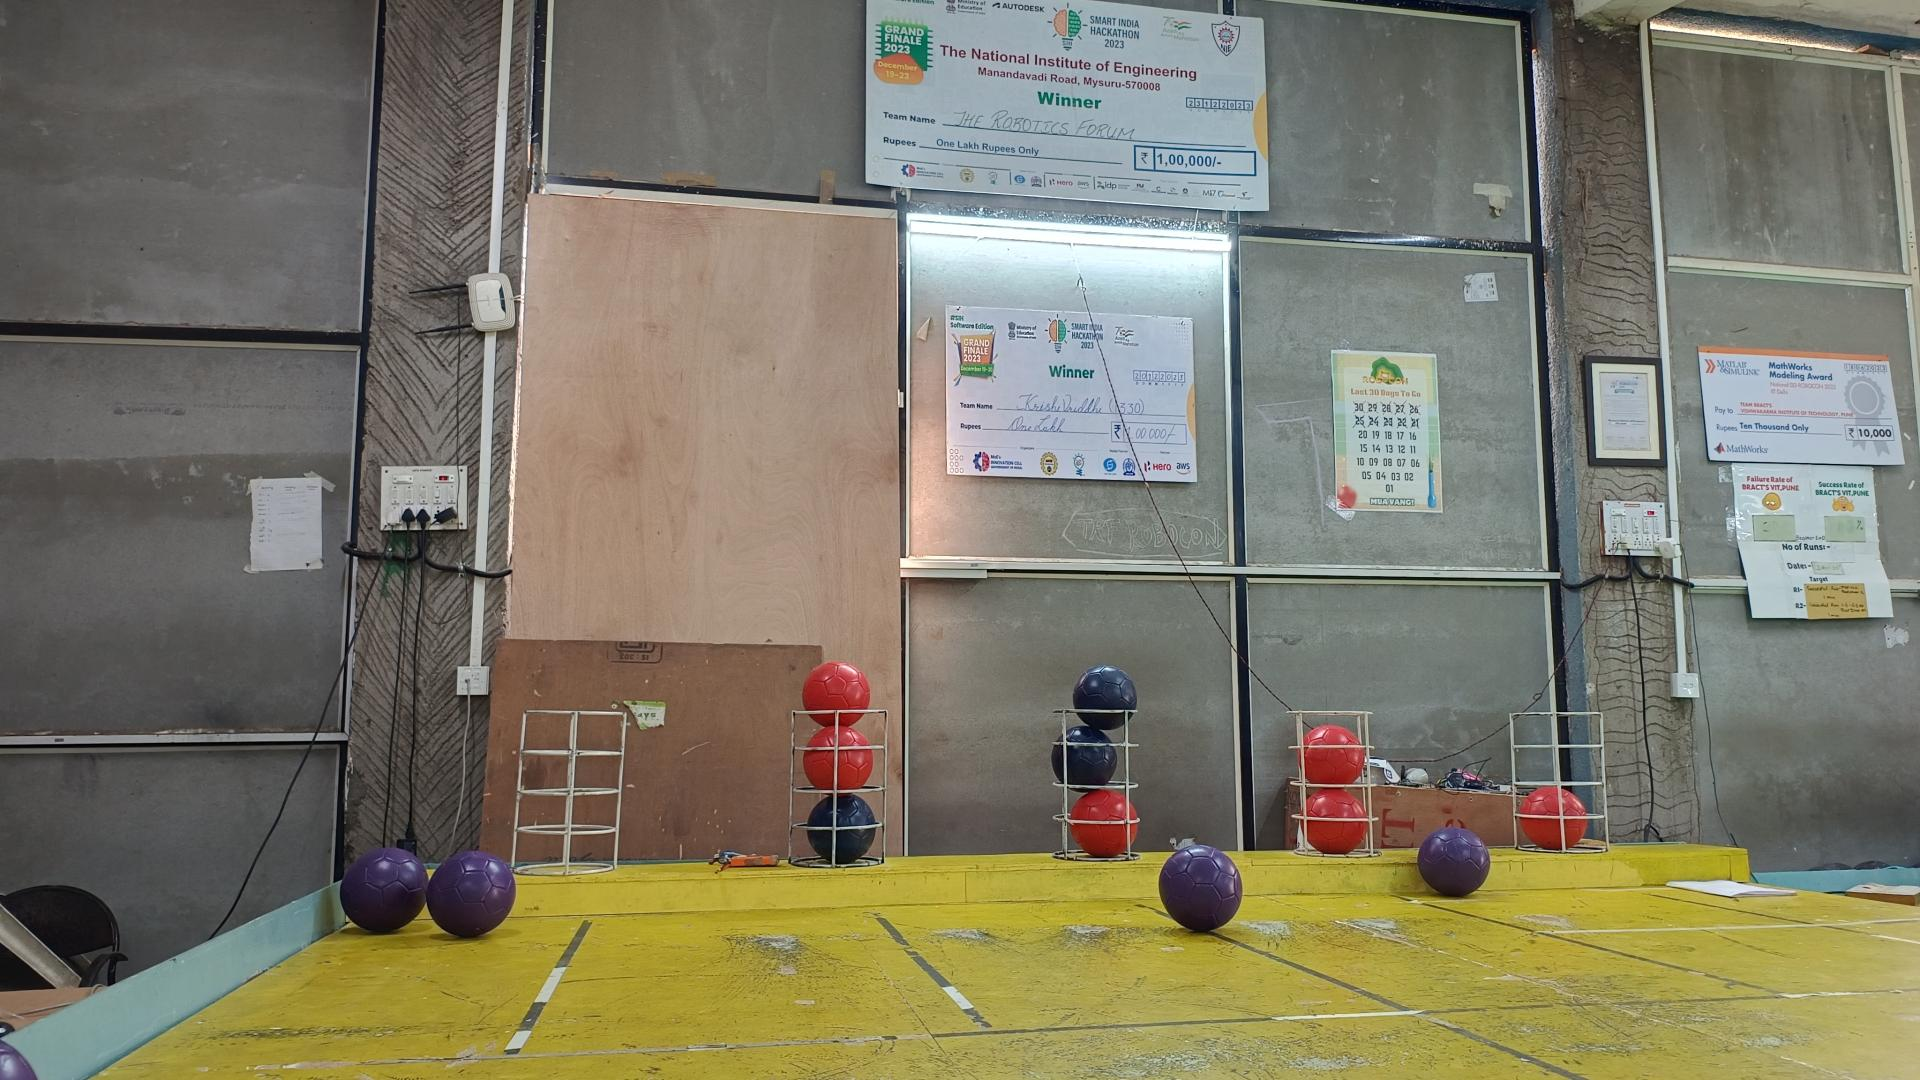dhoka: (806, 795, 877, 862), (1072, 663, 1137, 732), (1050, 724, 1117, 787)
laale: (1068, 787, 1139, 858), (803, 724, 874, 791), (803, 661, 870, 728), (1519, 787, 1586, 852), (1305, 787, 1369, 855), (1302, 724, 1365, 783)
